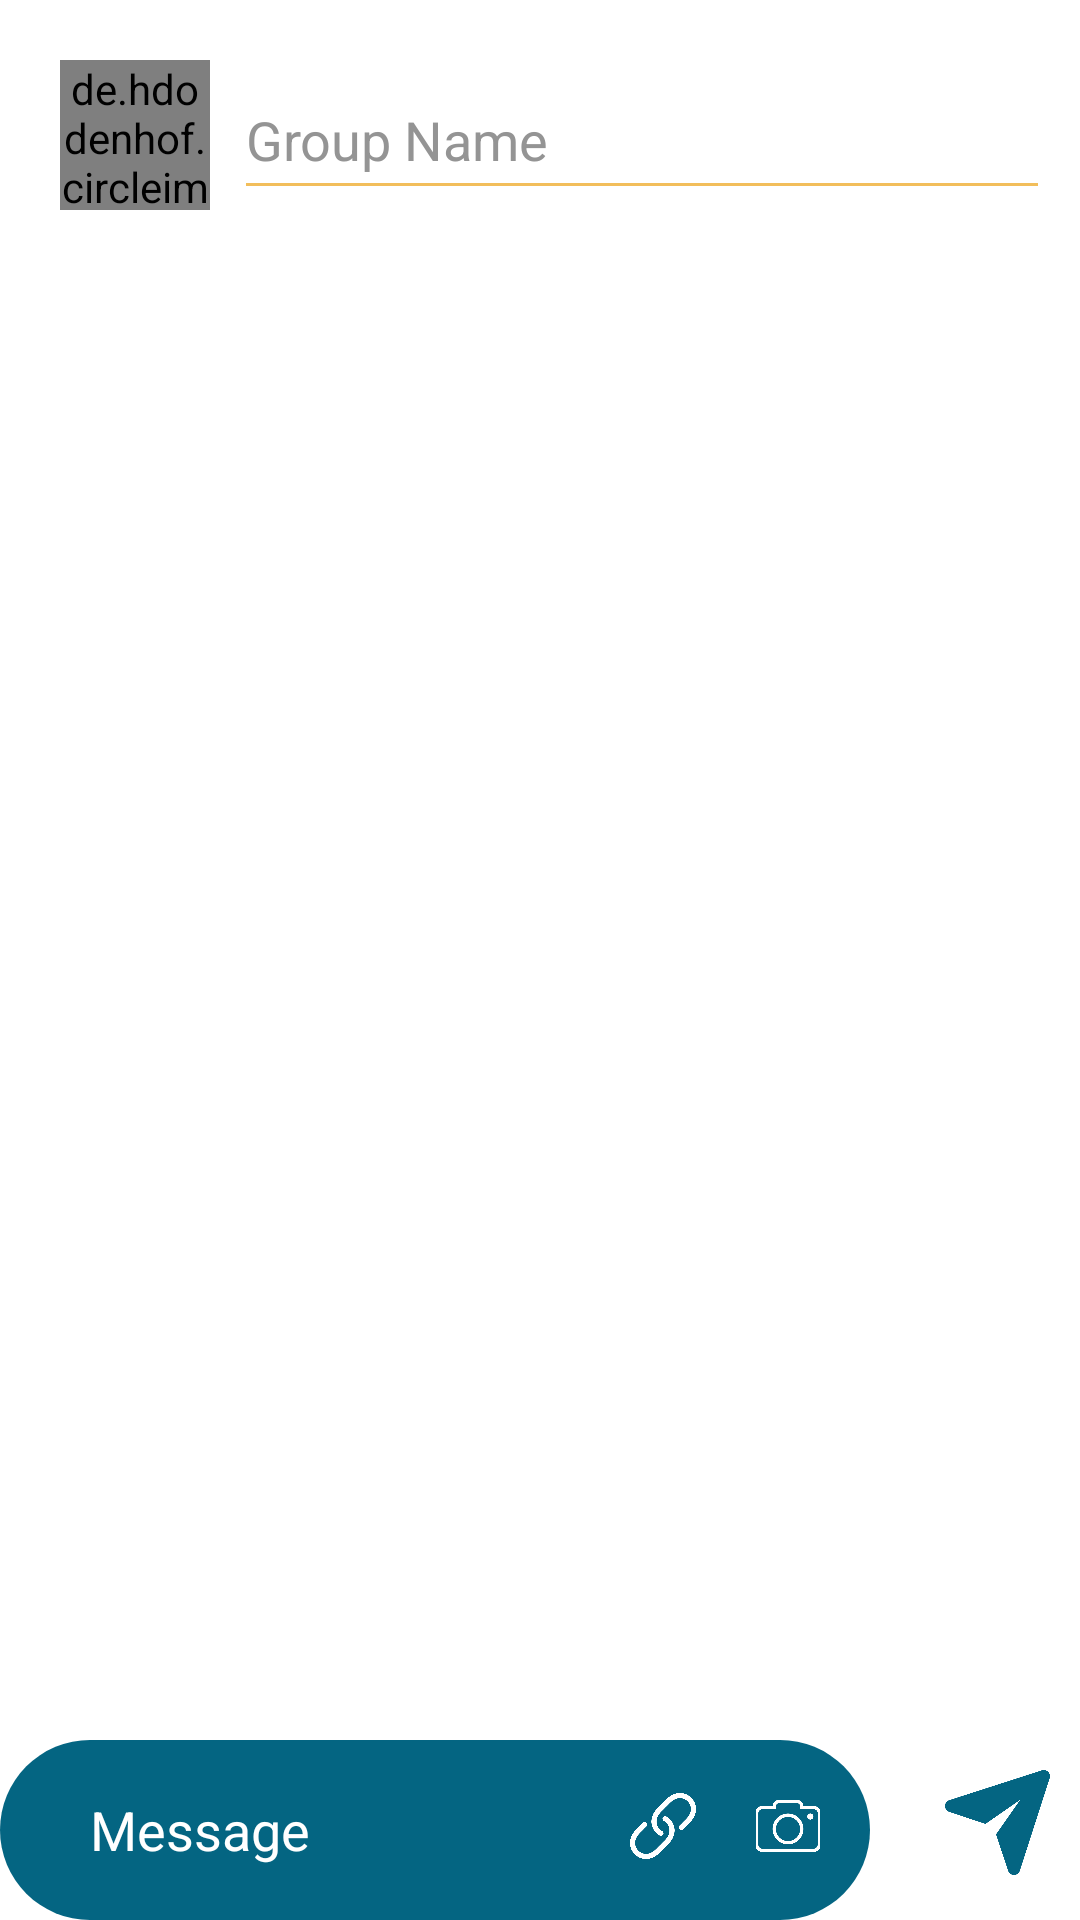

Point at icon controls on the screen. Image size 1080 x 1920, points as point (x, y).
camera: point (788, 1826)
send: point (997, 1822)
